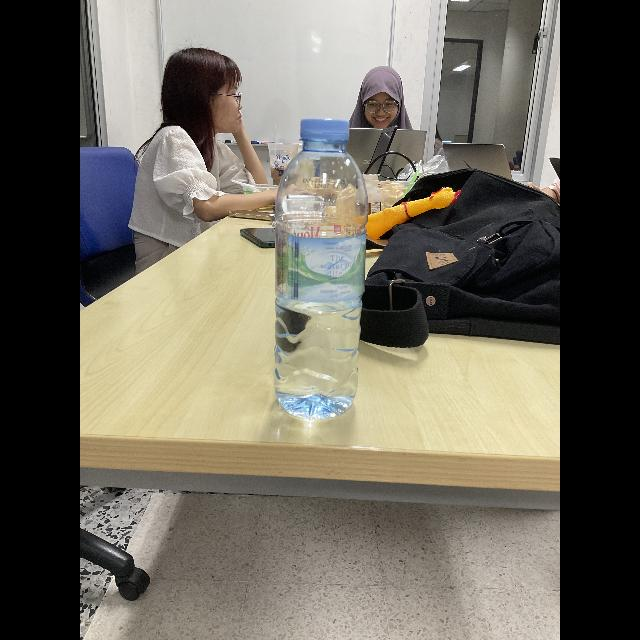plastic_bottle: (266, 114, 374, 428)
